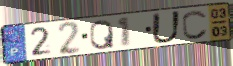1: (116, 15, 132, 49)
2: (57, 19, 83, 58), (30, 25, 53, 57)
C: (181, 9, 210, 40)
Q: (89, 18, 116, 51)
U: (150, 10, 184, 45)
